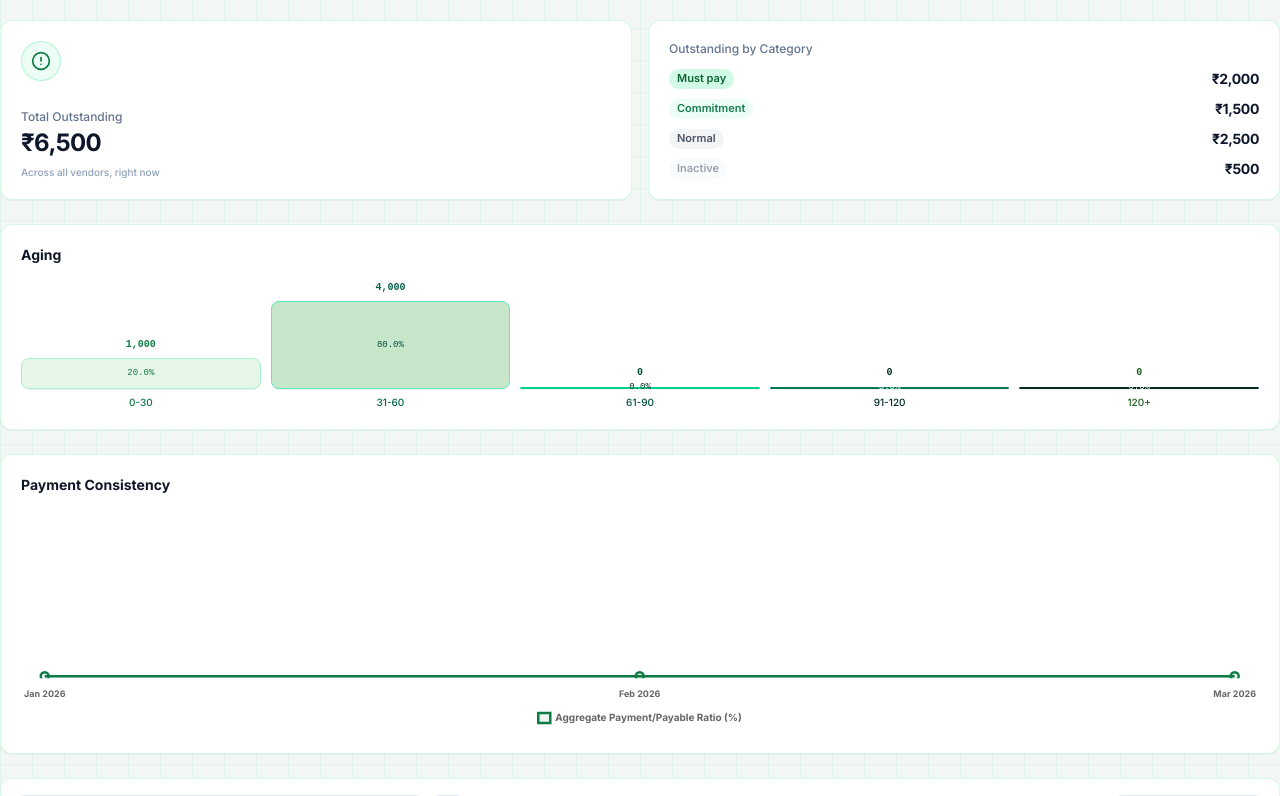
VendorAnalyticsTab › clicking an Aging bucket filters the vendor table to that bucket, click again clears it
This screenshot has width=1280, height=796.
Click the button titled "Show vendors in the 0-30 bucket".
click(141, 374)  # box [21,358,261,389]
(page scrolled)
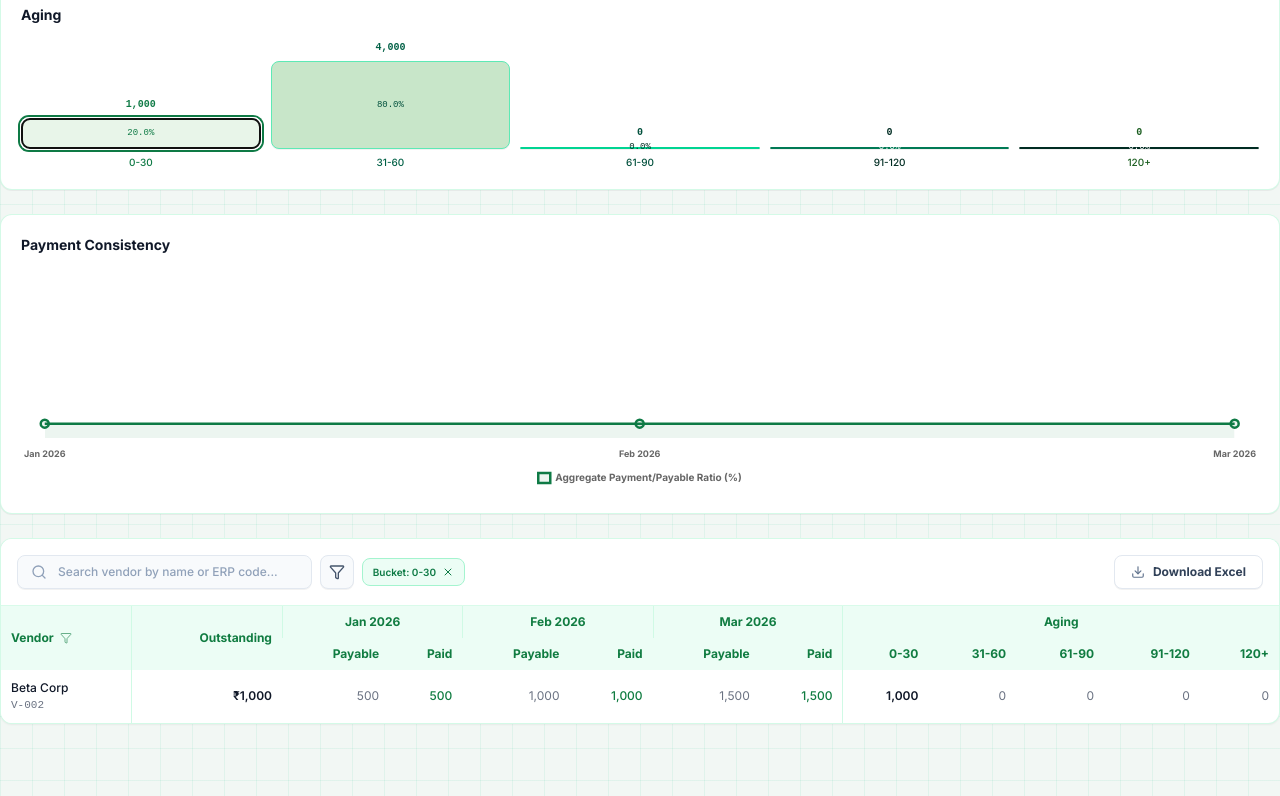
Expected: the text "Beta Corp" is shown, [11,680,68,695]
Expected: the text "Bucket: 0-30" is shown, [362,558,465,586]
Click the button titled "Show vendors in the 0-30 bucket".
click(141, 134)  # box [21,118,261,149]
(page scrolled)
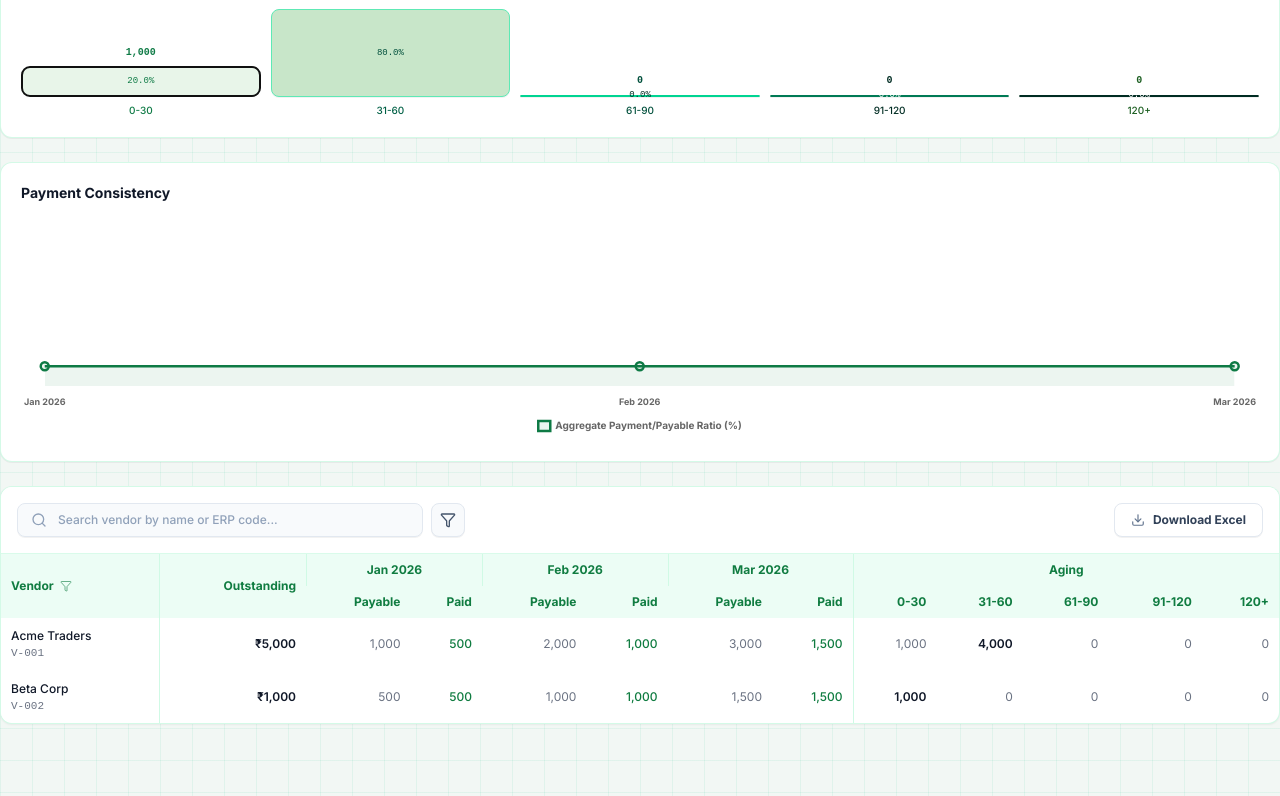
Expected: the text "Beta Corp" is shown, [11,681,68,696]
Expected: the text "Acme Traders" is shown, [11,628,91,643]
Expected: the text "Bucket: 0-30" is gone
